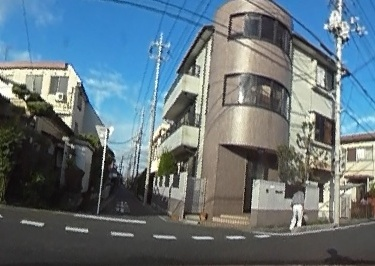person: (288, 188, 305, 228)
